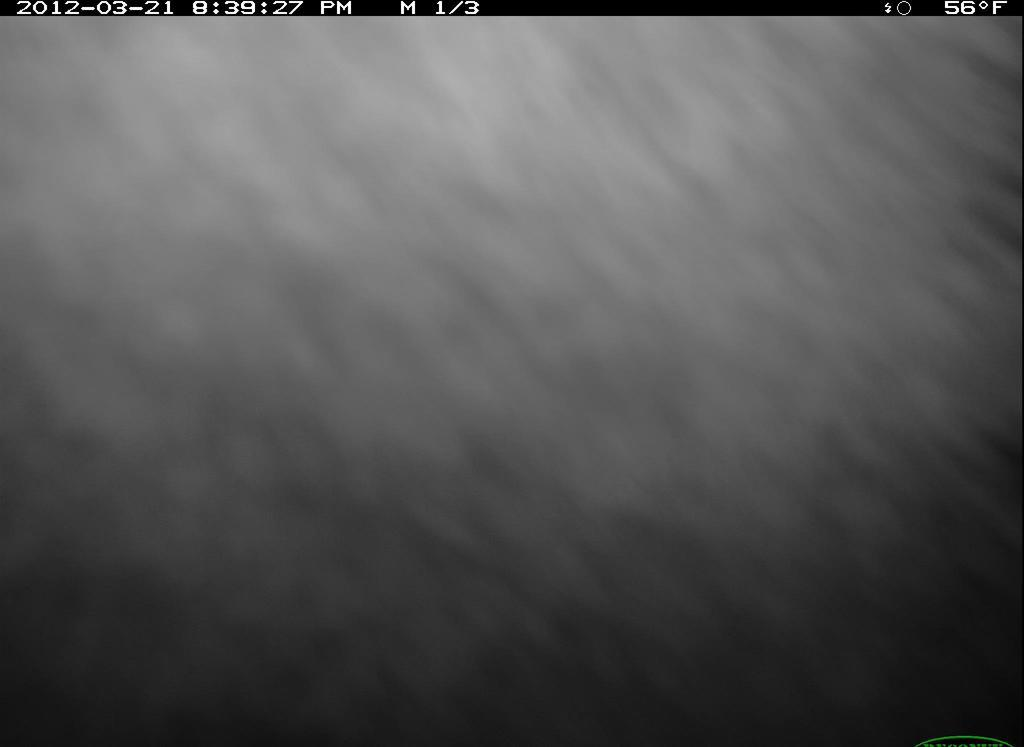coyote: (6, 11, 1017, 745)
